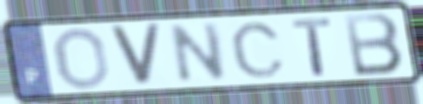B: (341, 11, 407, 79)
C: (228, 20, 288, 80)
N: (169, 20, 229, 85)
O: (53, 26, 113, 92)
T: (289, 16, 336, 78)
V: (105, 23, 164, 89)
